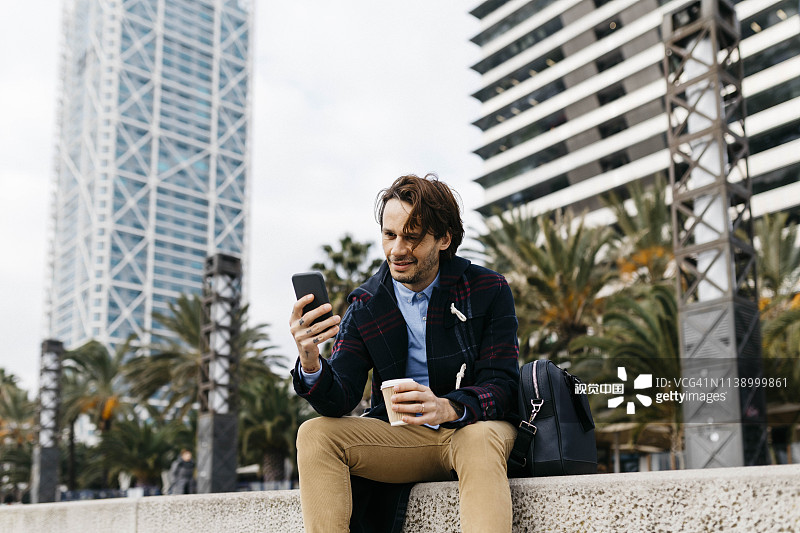no-phone: (372, 370, 465, 437)
reading: (274, 262, 351, 372)
